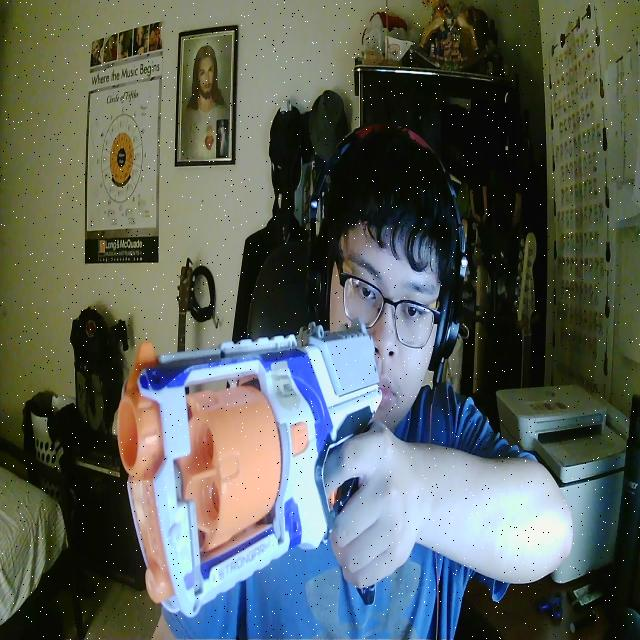Nerf_Blaster: (118, 316, 383, 618)
